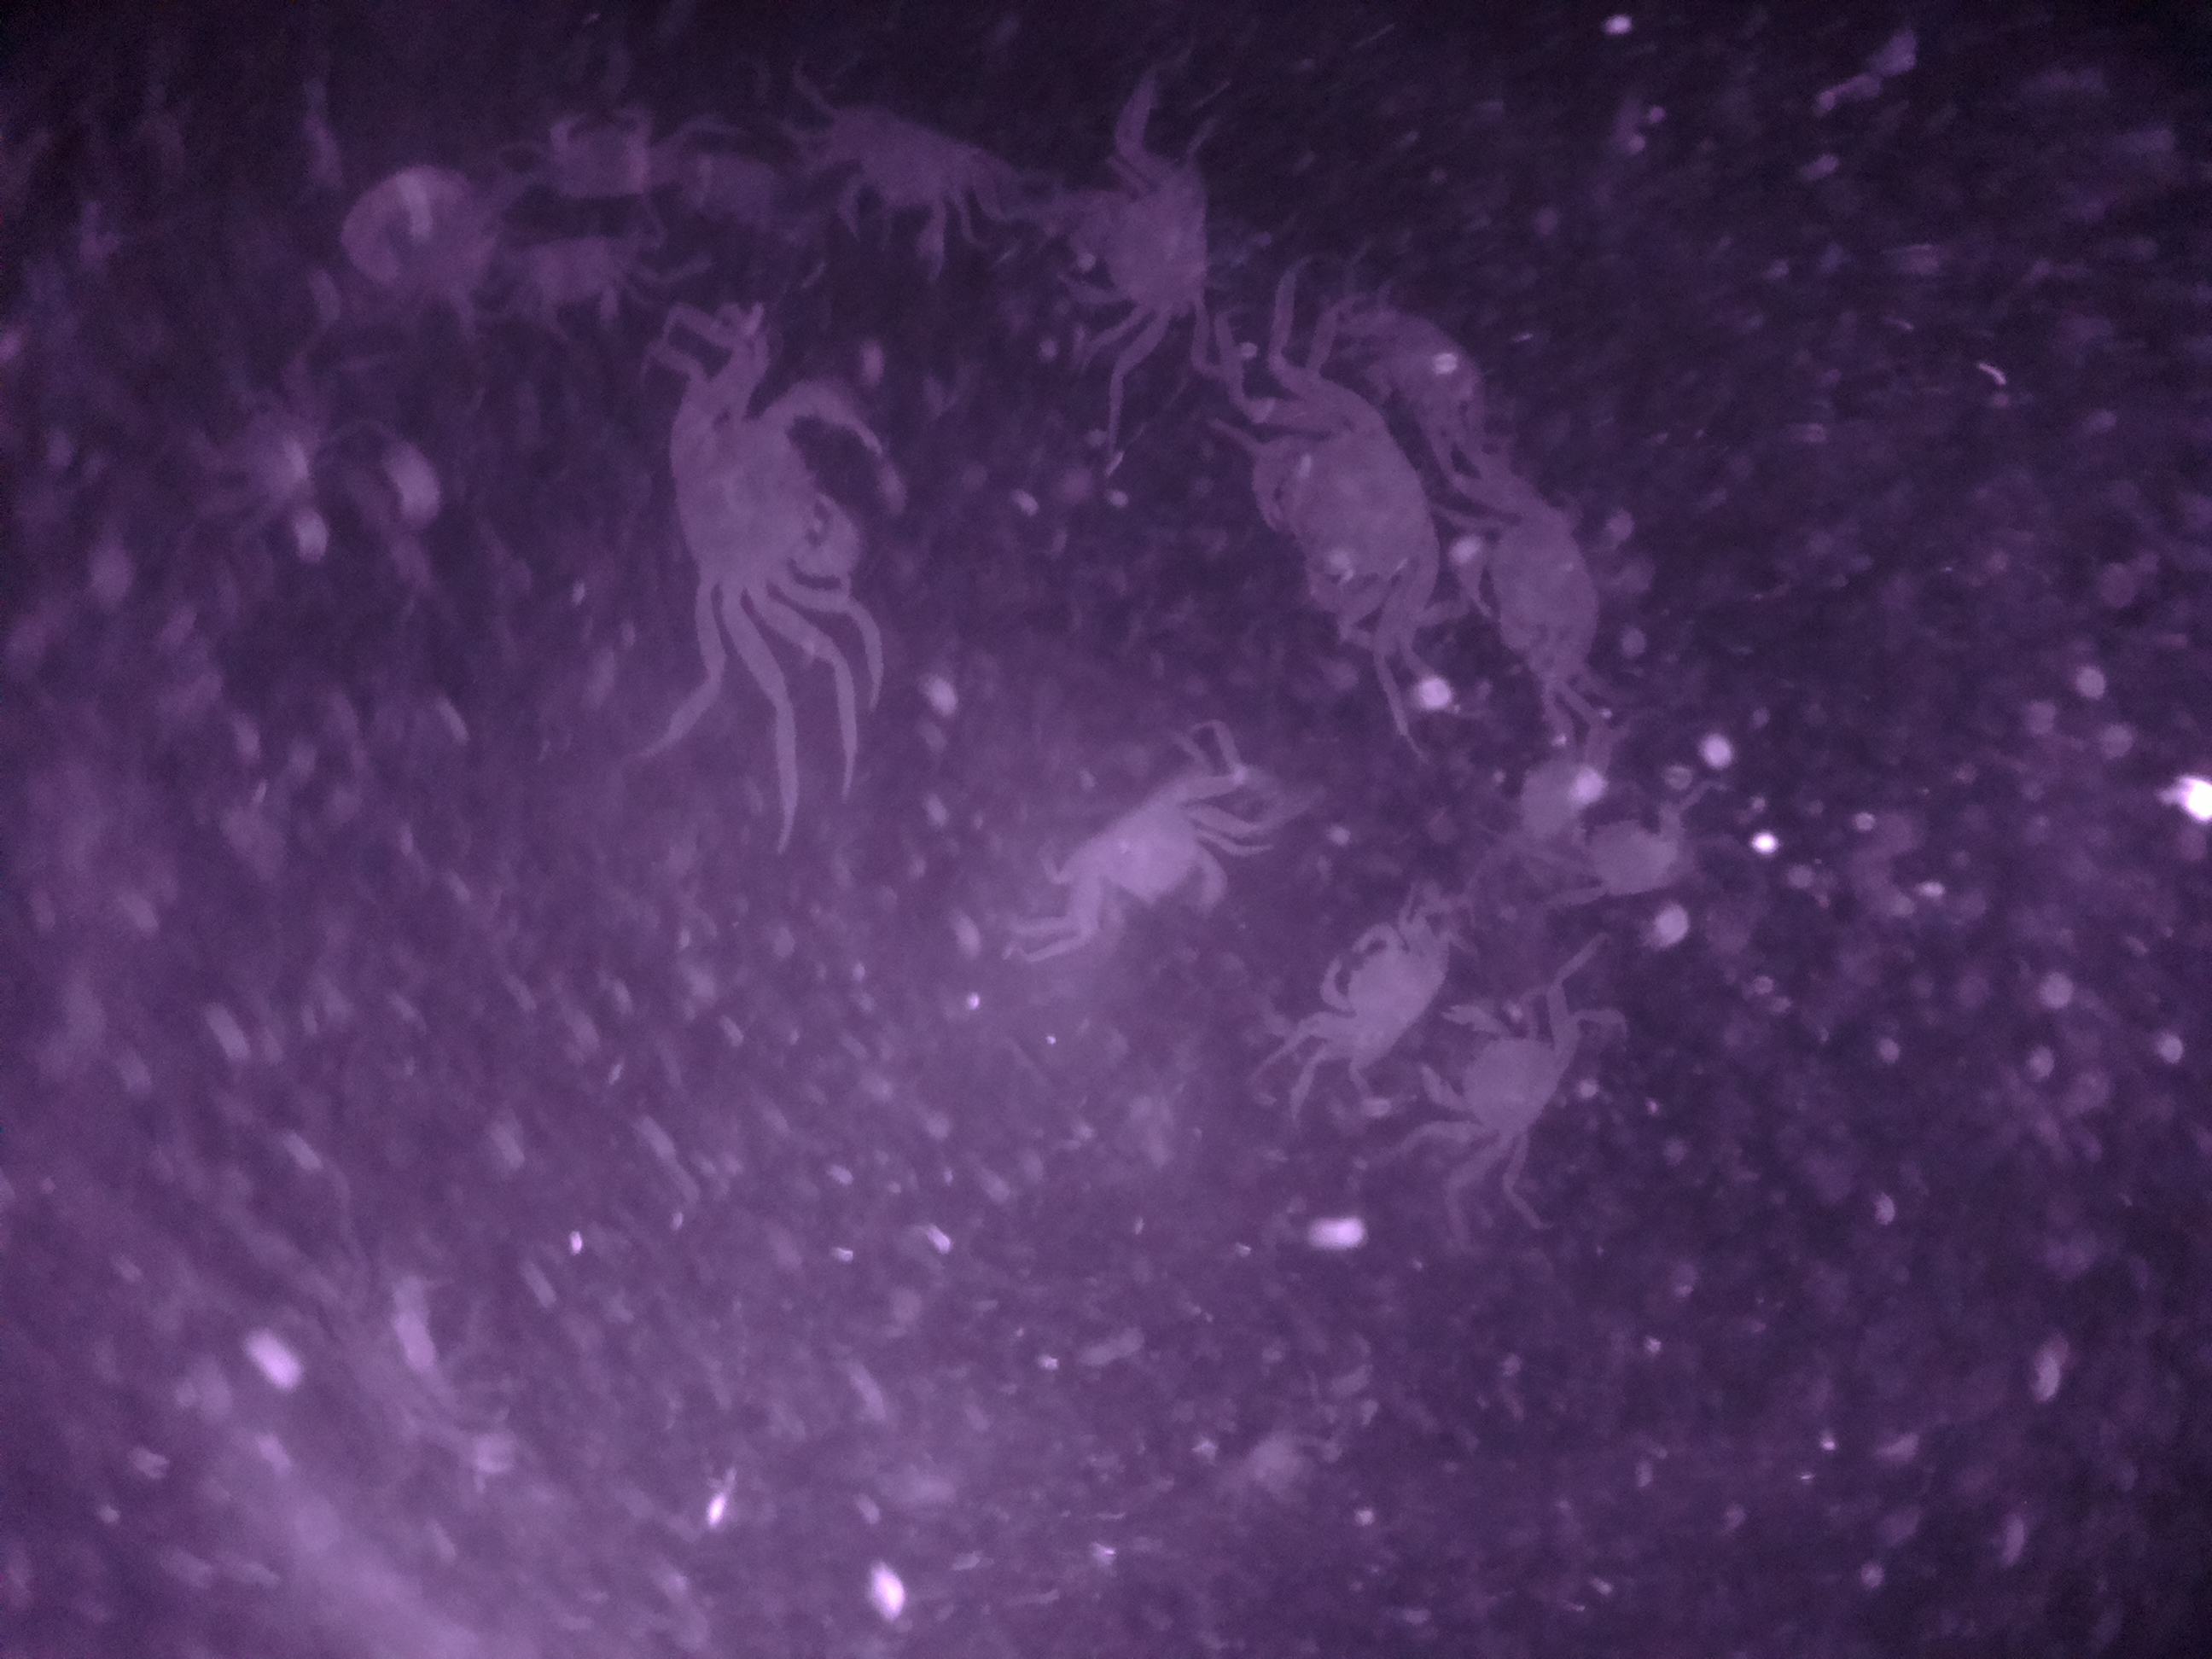Crab: (644, 350, 876, 643), (1233, 392, 1439, 647), (1071, 127, 1256, 340), (1059, 769, 1252, 936), (1425, 981, 1575, 1185), (1294, 913, 1440, 1089)
